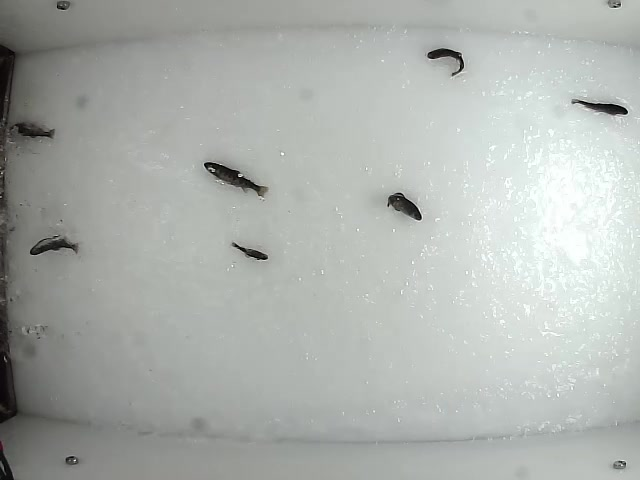fish: (200, 161, 271, 199), (567, 97, 631, 121), (25, 234, 81, 256), (424, 48, 465, 77), (386, 192, 424, 220), (7, 121, 56, 141), (230, 241, 269, 262)
